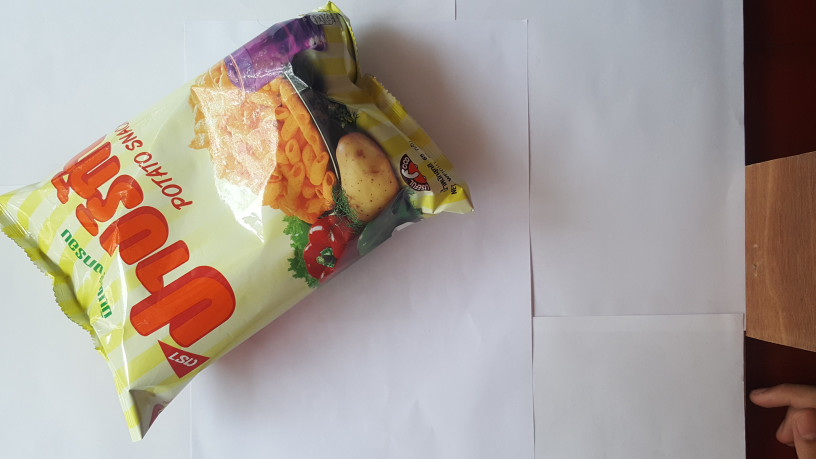paprika: (1, 1, 488, 450)
